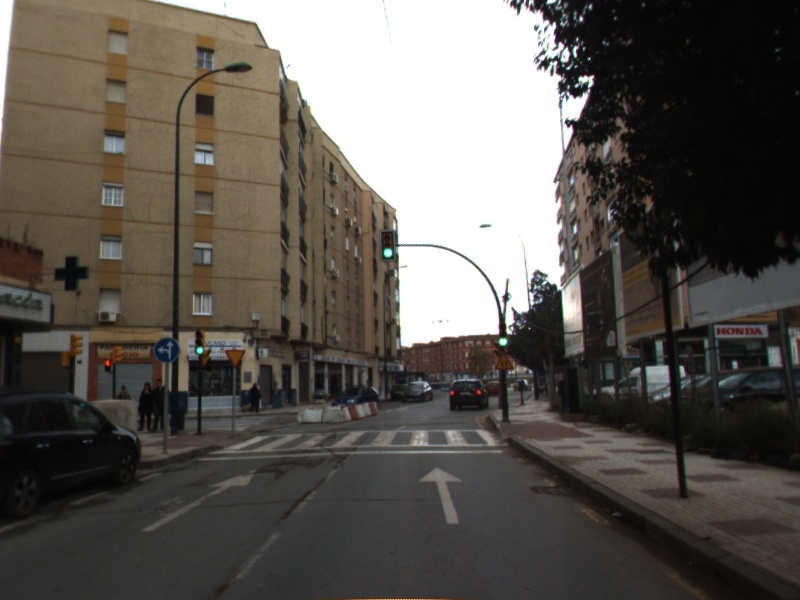STRAIGHT: (137, 465, 261, 534), (415, 464, 466, 526)
